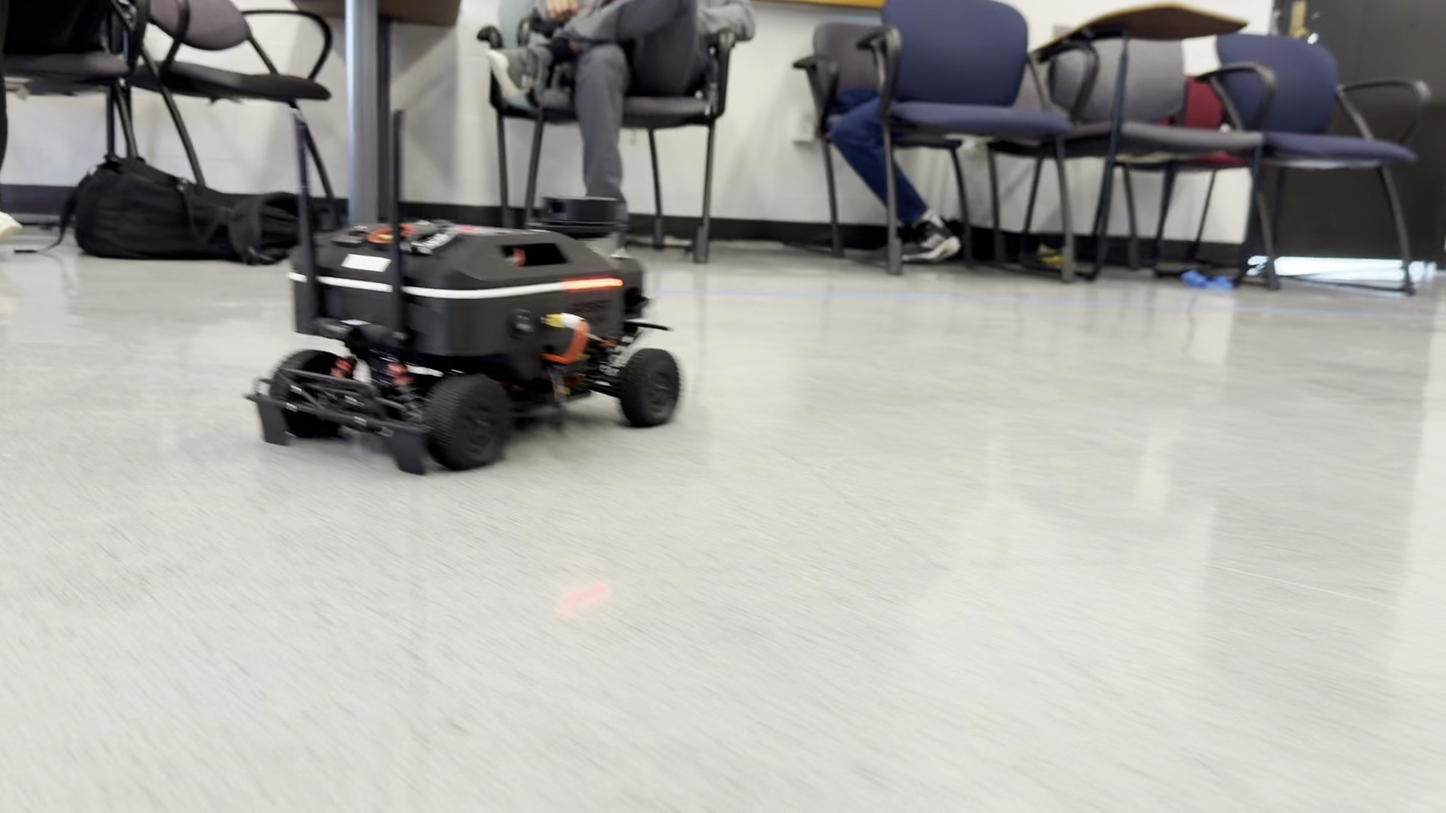racecar: (250, 220, 681, 477)
